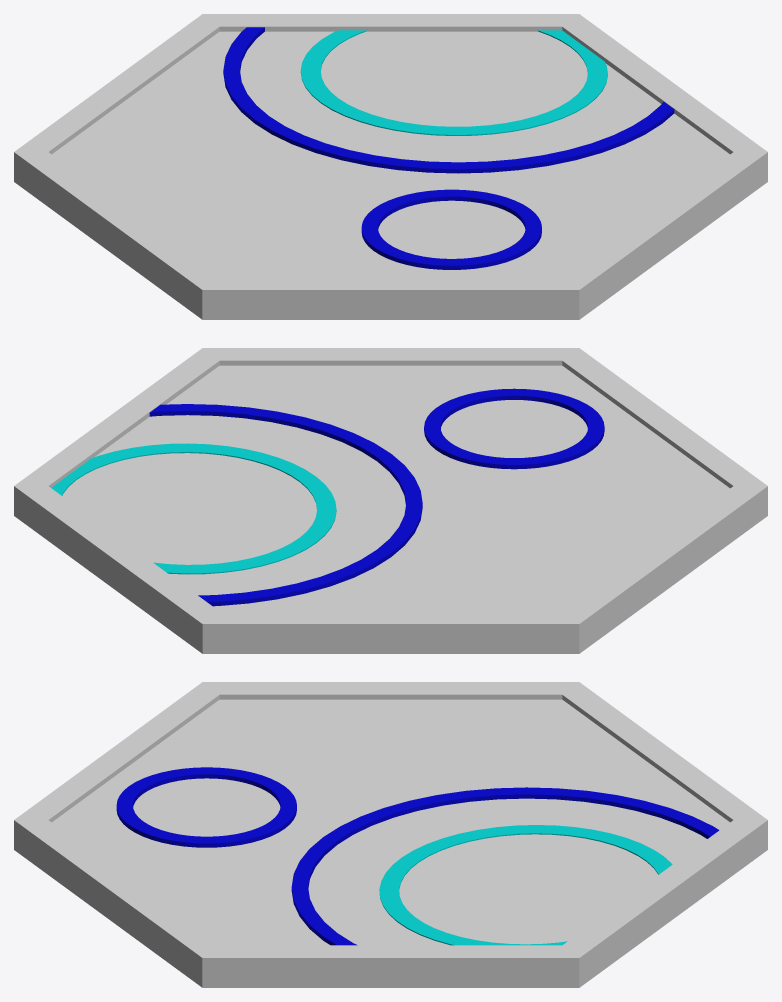
The model's file is placas_civi8.fbx.
3 views of the same model, one above another, from view 1: azimuth 30°, elevation 25°; view 2: azimuth 150°, elevation 25°; view 3: azimuth 270°, elevation 25° (orthographic).
Visible parts, largest first — view 1: placa_base_low, placa8_low; view 2: placa_base_low, placa8_low; view 3: placa_base_low, placa8_low.
Boxes of the visible parts, bbox=[...] form: placa_base_low: bbox=[14, 14, 767, 319]; placa8_low: bbox=[223, 27, 674, 269]; placa_base_low: bbox=[14, 348, 767, 653]; placa8_low: bbox=[51, 388, 604, 606]; placa_base_low: bbox=[14, 682, 767, 987]; placa8_low: bbox=[116, 767, 719, 945].
Size of the model in its own units: 346 by 17.47 by 400.
